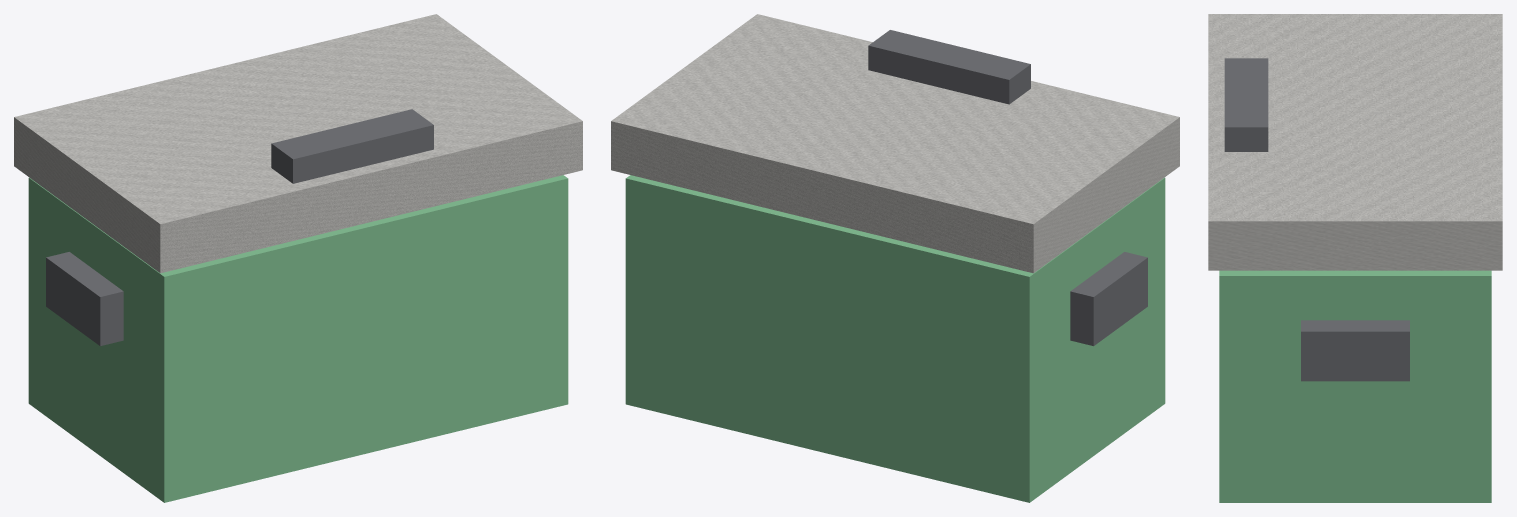
Rendered from street-food-market-and-food-trucks-cool-box-4867ab9d__34309.glb.
3 views of the same model, side by side, from view 1: azimuth 30°, elevation 25°; view 2: azimuth 150°, elevation 25°; view 3: azimuth 270°, elevation 25° (orthographic).
Parts seen in each view (by area): view 1: cool-box-leaf, lid/concrete, lid/charcoal, cool-box-charcoal; view 2: cool-box-leaf, lid/concrete, lid/charcoal, cool-box-charcoal; view 3: lid/concrete, cool-box-leaf, cool-box-charcoal, lid/charcoal.
Boxes of the visible parts, box(x1,y1,x2,y2) form: cool-box-leaf: box(28, 175, 568, 502); lid/concrete: box(14, 14, 582, 273); lid/charcoal: box(271, 109, 433, 183); cool-box-charcoal: box(46, 252, 123, 346); cool-box-leaf: box(625, 175, 1165, 502); lid/concrete: box(611, 14, 1179, 273); lid/charcoal: box(868, 30, 1030, 104); cool-box-charcoal: box(1070, 252, 1147, 346); lid/concrete: box(1208, 14, 1502, 270); cool-box-leaf: box(1219, 270, 1491, 502); cool-box-charcoal: box(1301, 320, 1409, 381); lid/charcoal: box(1224, 58, 1268, 151).
Size of the model in its own units: 0.96 by 0.63 by 0.54.
3 materials, 1 textured.
